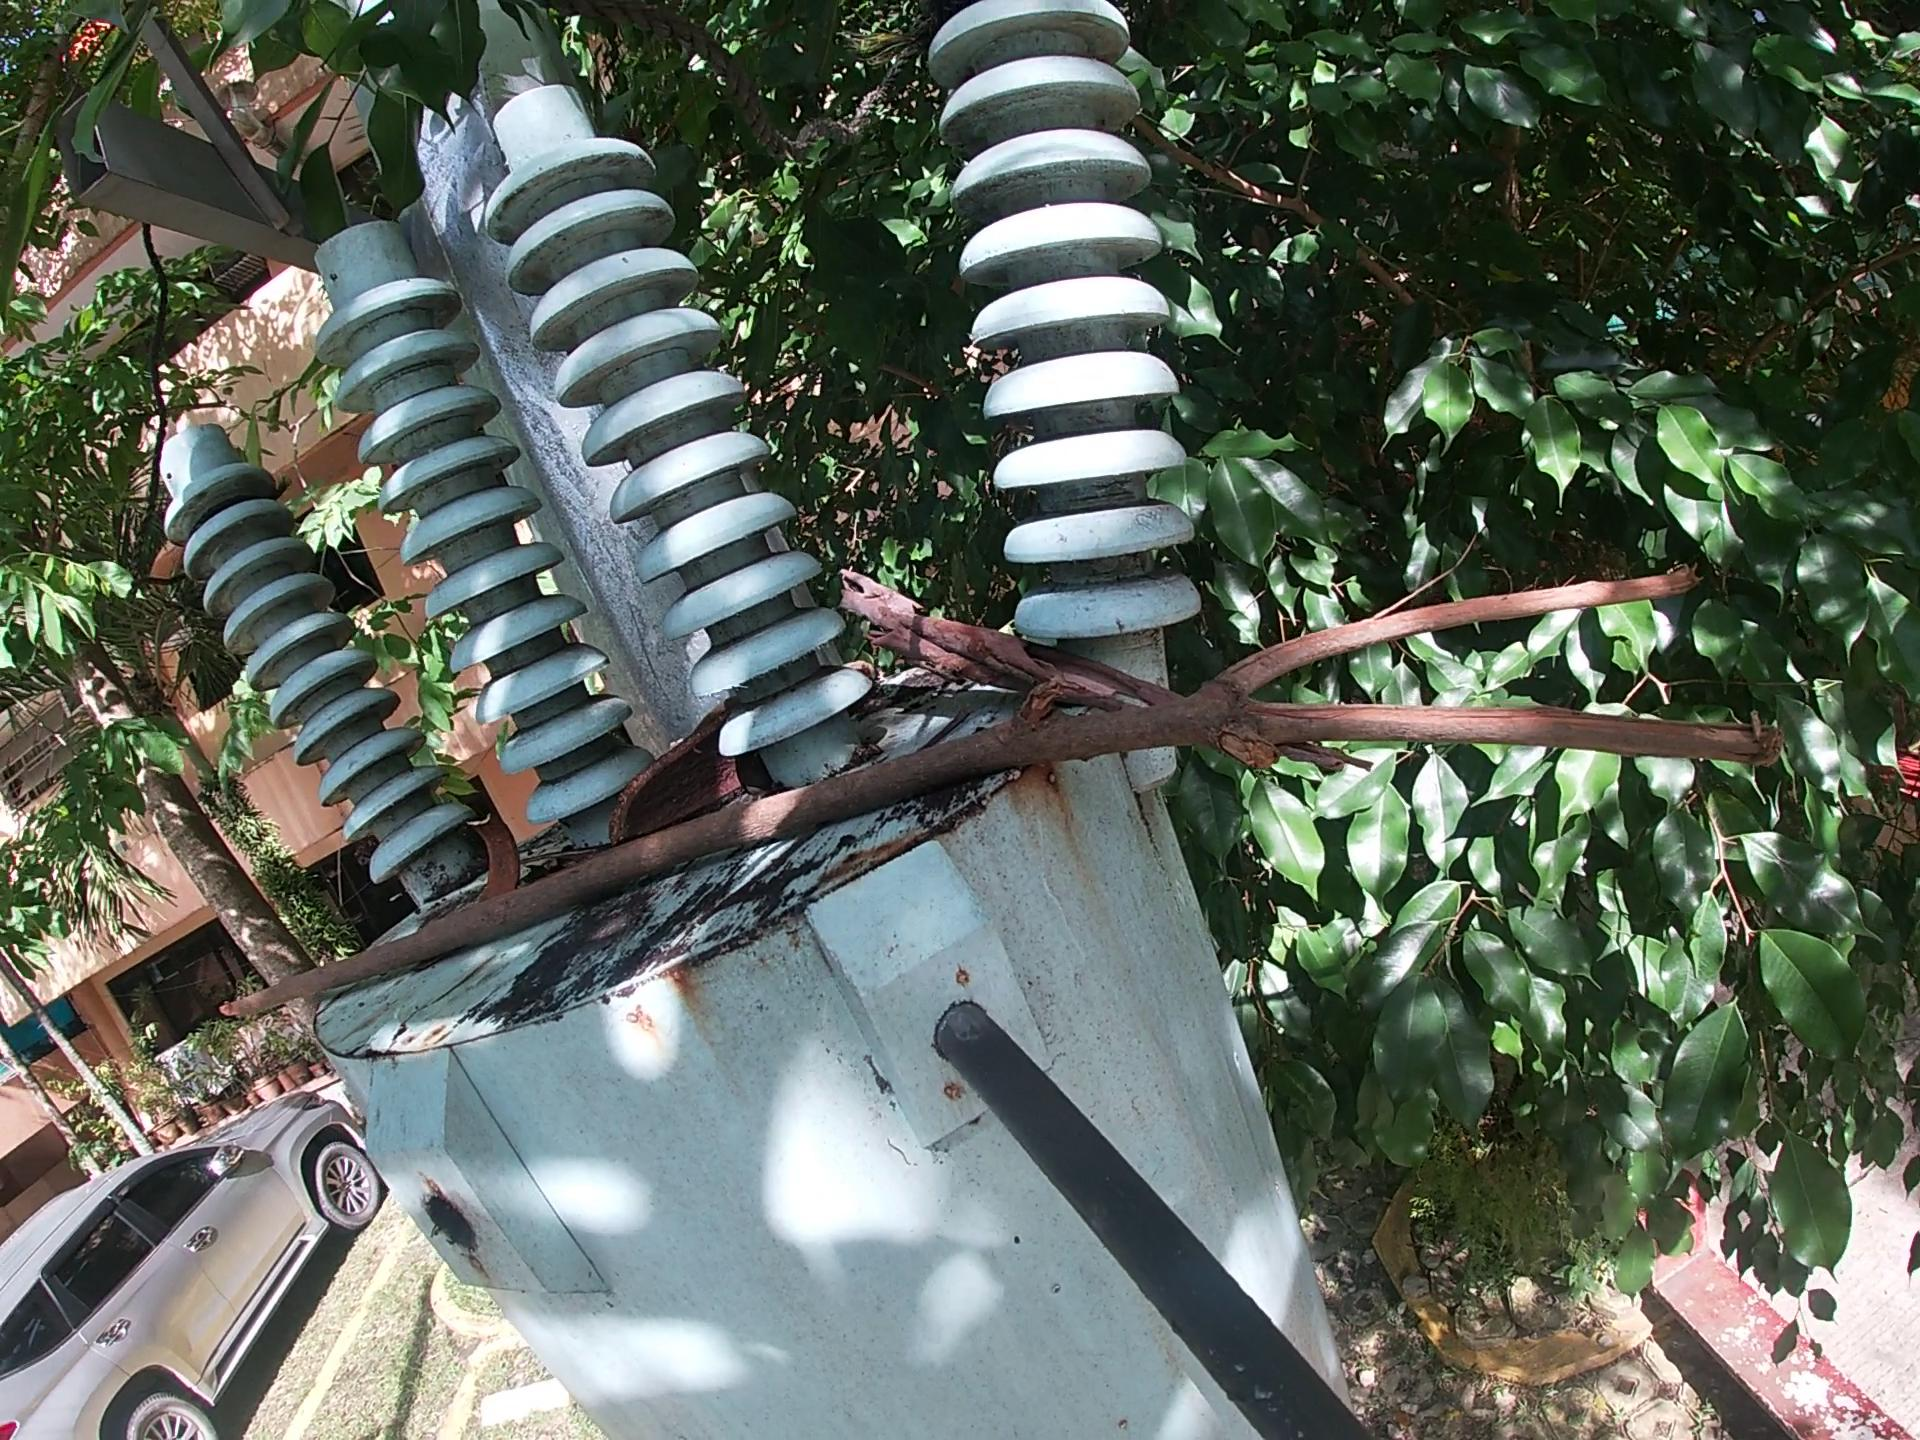mahogany fruit: (593, 697, 745, 861), (463, 808, 522, 905)
tree branch: (206, 558, 1798, 1033), (831, 561, 1373, 779)
